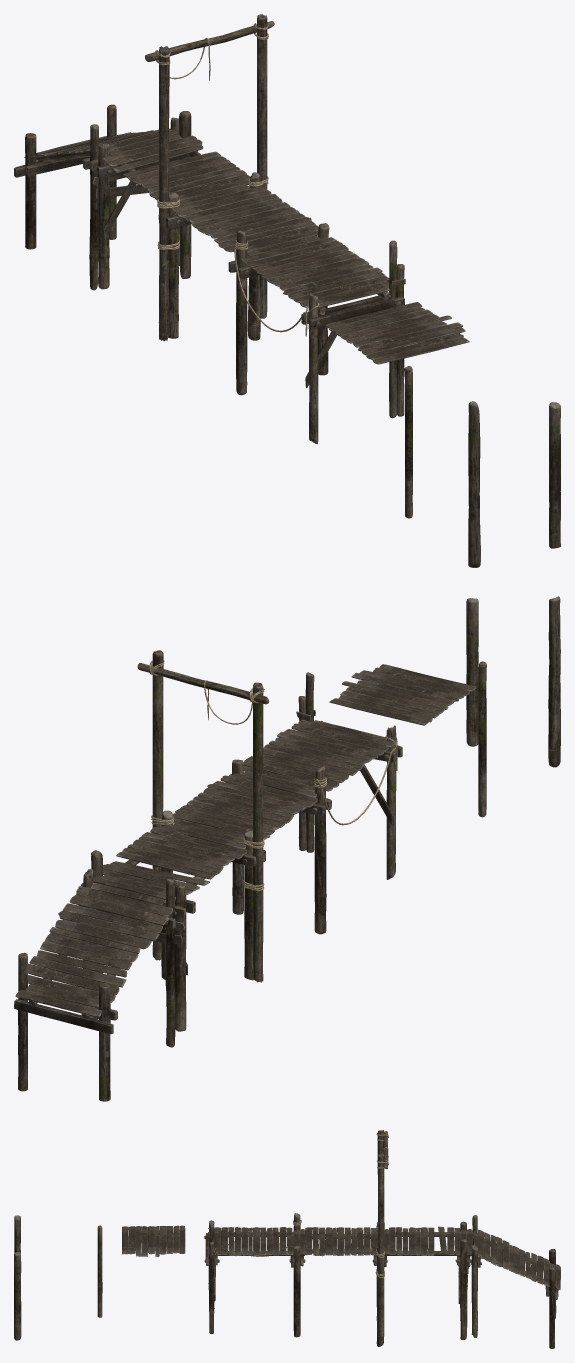
The model's file is modular_wooden_pier_1k.fbx.
The picture shows the model from 3 angles, top to bottom: view 1: azimuth 30°, elevation 25°; view 2: azimuth 150°, elevation 25°; view 3: azimuth 270°, elevation 25°; orthographic projection. The views are drawn at different scales.
Parts seen in each view (by area): view 1: modular_wooden_pier_section_01, modular_wooden_pier_section_03, modular_wooden_pier_section_02, modular_wooden_pier_section_05, modular_wooden_pier_section_04, modular_wooden_pier_planks, modular_wooden_pier_poles; view 2: modular_wooden_pier_section_04, modular_wooden_pier_section_01, modular_wooden_pier_section_03, modular_wooden_pier_section_02, modular_wooden_pier_section_05, modular_wooden_pier_poles, modular_wooden_pier_planks; view 3: modular_wooden_pier_section_01, modular_wooden_pier_section_04, modular_wooden_pier_section_03, modular_wooden_pier_section_02, modular_wooden_pier_planks, modular_wooden_pier_section_05, modular_wooden_pier_poles.
Boxes of the visible parts, x1,y1,x2,y2 form: modular_wooden_pier_section_01: [228, 223, 405, 444]; modular_wooden_pier_section_03: [89, 111, 250, 289]; modular_wooden_pier_section_02: [158, 172, 318, 340]; modular_wooden_pier_section_05: [145, 14, 274, 341]; modular_wooden_pier_section_04: [14, 104, 179, 290]; modular_wooden_pier_planks: [325, 302, 469, 364]; modular_wooden_pier_poles: [404, 366, 560, 567]; modular_wooden_pier_section_04: [14, 868, 175, 1101]; modular_wooden_pier_section_01: [225, 672, 402, 934]; modular_wooden_pier_section_03: [81, 827, 247, 1031]; modular_wooden_pier_section_02: [160, 775, 317, 980]; modular_wooden_pier_section_05: [137, 650, 269, 982]; modular_wooden_pier_poles: [466, 596, 560, 817]; modular_wooden_pier_planks: [329, 664, 476, 725]; modular_wooden_pier_section_01: [204, 1213, 305, 1337]; modular_wooden_pier_section_04: [471, 1215, 560, 1348]; modular_wooden_pier_section_03: [376, 1221, 473, 1339]; modular_wooden_pier_section_02: [292, 1222, 389, 1346]; modular_wooden_pier_planks: [122, 1225, 185, 1256]; modular_wooden_pier_section_05: [375, 1130, 388, 1337]; modular_wooden_pier_poles: [14, 1215, 102, 1340].
Size of the model in its own units: 310 by 752 by 1903.
Materials: 2 (2 with a texture image).
